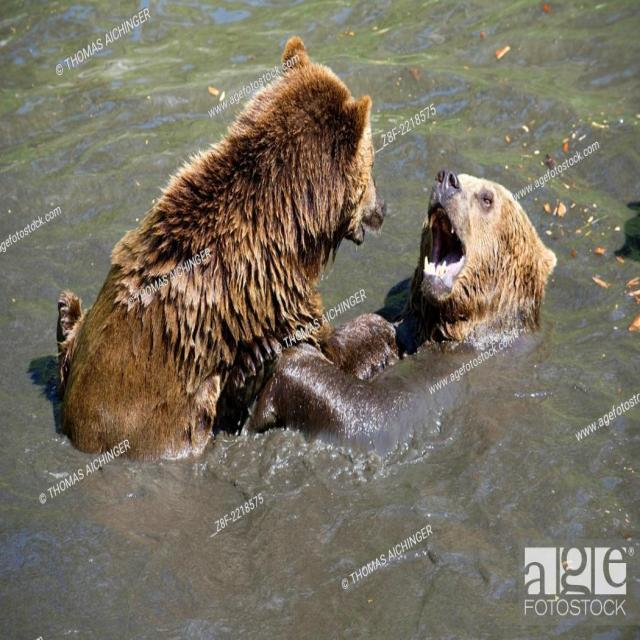Bear: (47, 39, 388, 464), (330, 170, 558, 370)
